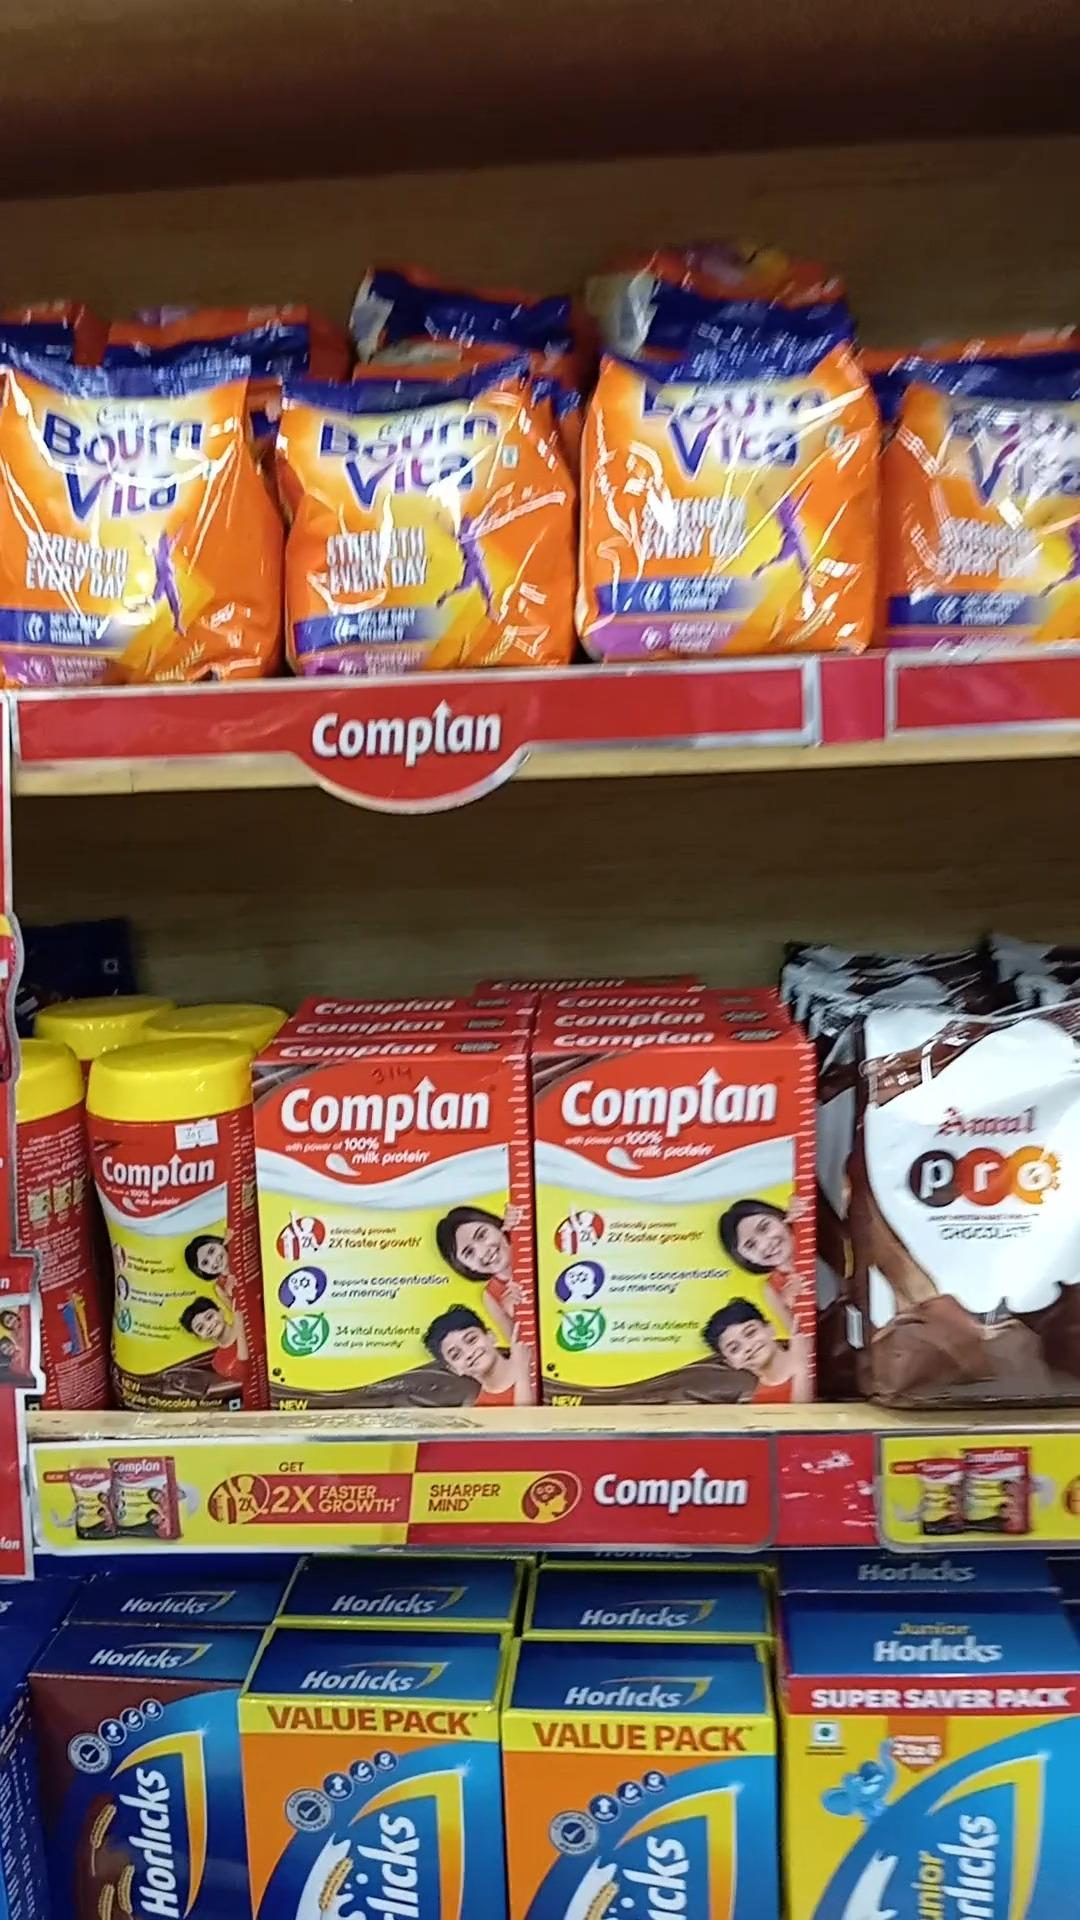BOURN_VITA_500_G_POUCH: (582, 332, 866, 655), (287, 363, 563, 683), (8, 348, 266, 682)
COMPLAN_CHOCOLATE_500_GMS_JAR: (88, 1043, 251, 1414)
COMPLAN_CHOCOLATE_500_GMS_PACK: (260, 1058, 537, 1408), (547, 1055, 818, 1402)
